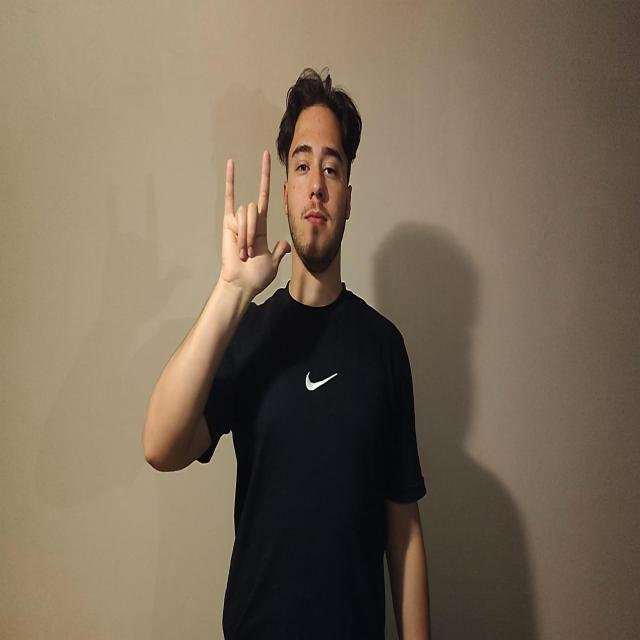iloveyou: (220, 148, 291, 301)
